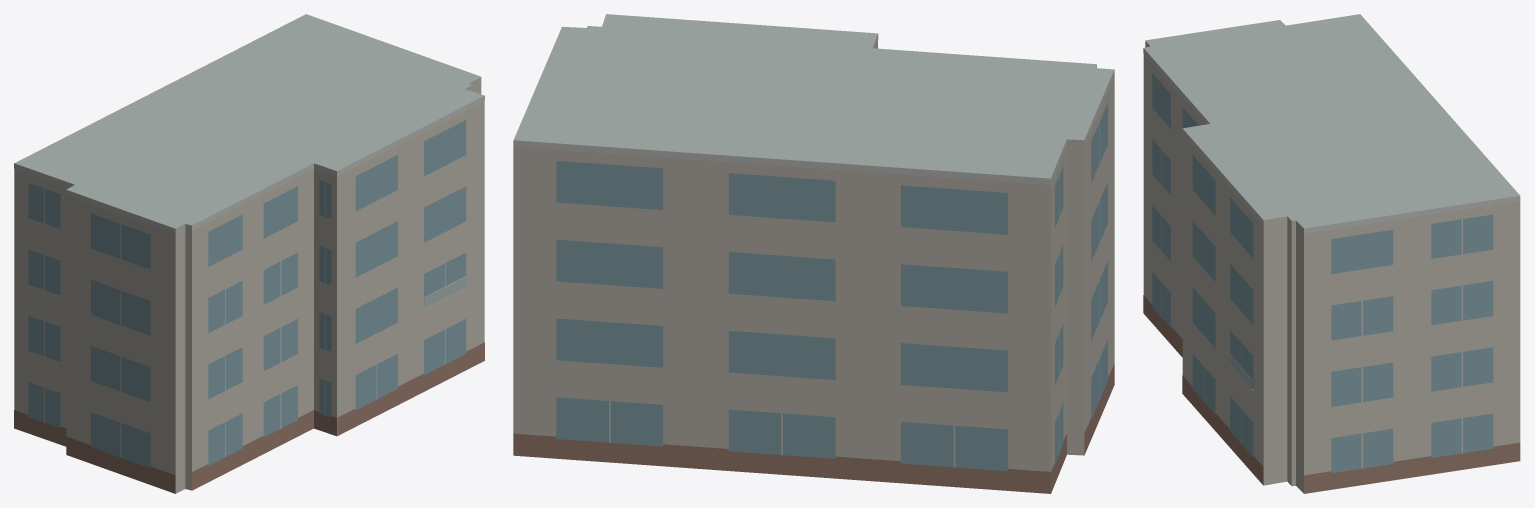
Rendered from survey-upis-32684153.glb.
3 views of the same model, side by side, from view 1: azimuth 30°, elevation 25°; view 2: azimuth 150°, elevation 25°; view 3: azimuth 270°, elevation 25° (orthographic). The views are drawn at different scales.
Visible parts, largest first — view 1: survey-upis-32684153.tmp; view 2: survey-upis-32684153.tmp; view 3: survey-upis-32684153.tmp.
Part boxes in pixels (<box>): survey-upis-32684153.tmp: <box>14,14,484,493</box>; survey-upis-32684153.tmp: <box>513,14,1114,493</box>; survey-upis-32684153.tmp: <box>1143,14,1520,493</box>.
Bounding box in the file's own units: 20.38 × 11.75 × 15.13.
